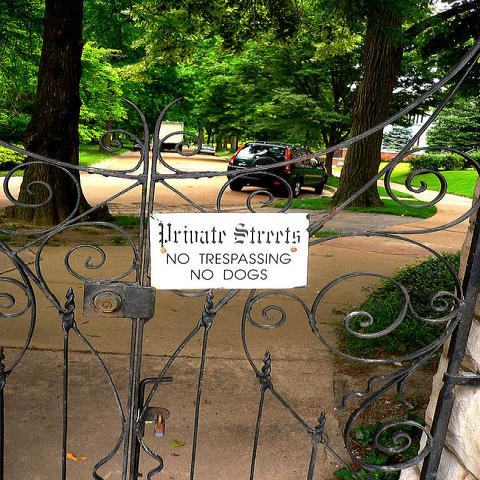car: (227, 141, 329, 198), (194, 144, 215, 155), (134, 139, 145, 151)
truck: (160, 121, 184, 153)
